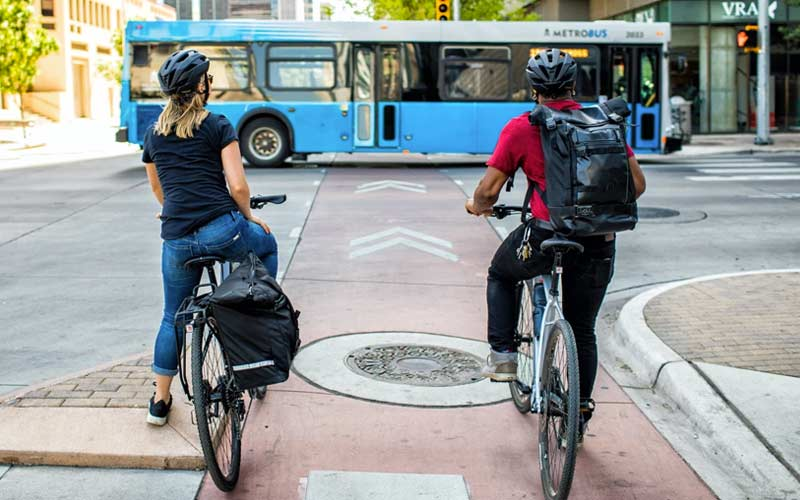bicycle: (464, 195, 614, 496), (154, 250, 287, 489)
person: (485, 32, 638, 427), (146, 41, 271, 432)
